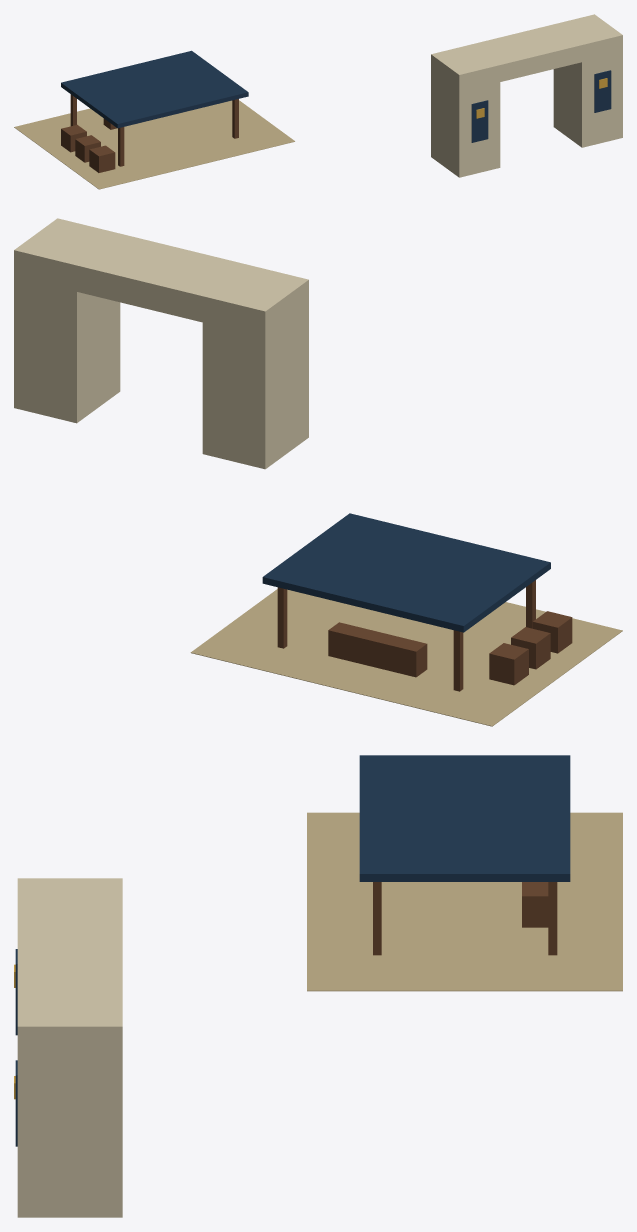
Rendered from crown_road_couriercamp.glb.
3 renders of one model, top to bottom at view 1: azimuth 30°, elevation 25°; view 2: azimuth 150°, elevation 25°; view 3: azimuth 270°, elevation 25°, orthographic. The views are drawn at different scales.
Parts seen in each view (by area): view 1: crown_road_couriercamp; view 2: crown_road_couriercamp; view 3: crown_road_couriercamp.
Boxes of the visible parts, left/top/right/bottom form: crown_road_couriercamp: left=14, top=14, right=622, bottom=189; crown_road_couriercamp: left=14, top=218, right=622, bottom=726; crown_road_couriercamp: left=14, top=755, right=622, bottom=1217.
Bounding box in the file's own units: 109 × 24 × 69.4.
